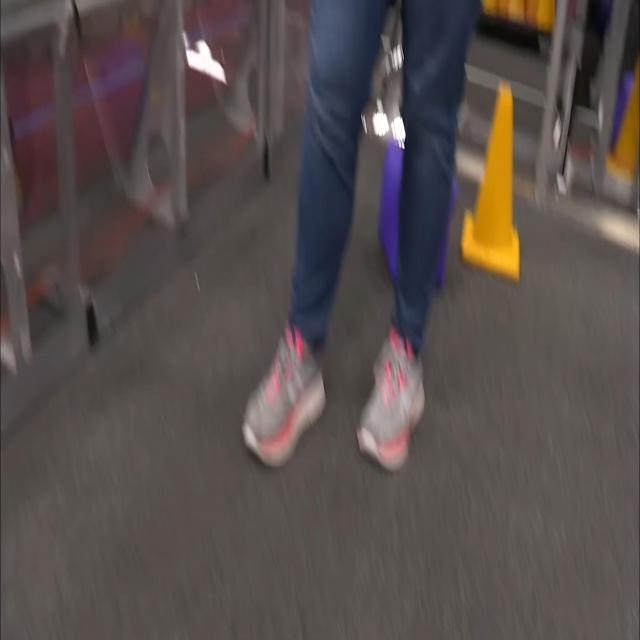frc_cone: (456, 90, 522, 290), (602, 61, 640, 184), (530, 0, 556, 32), (506, 0, 526, 19), (486, 0, 500, 20)
frc_cube: (378, 141, 451, 276), (611, 66, 630, 153)
